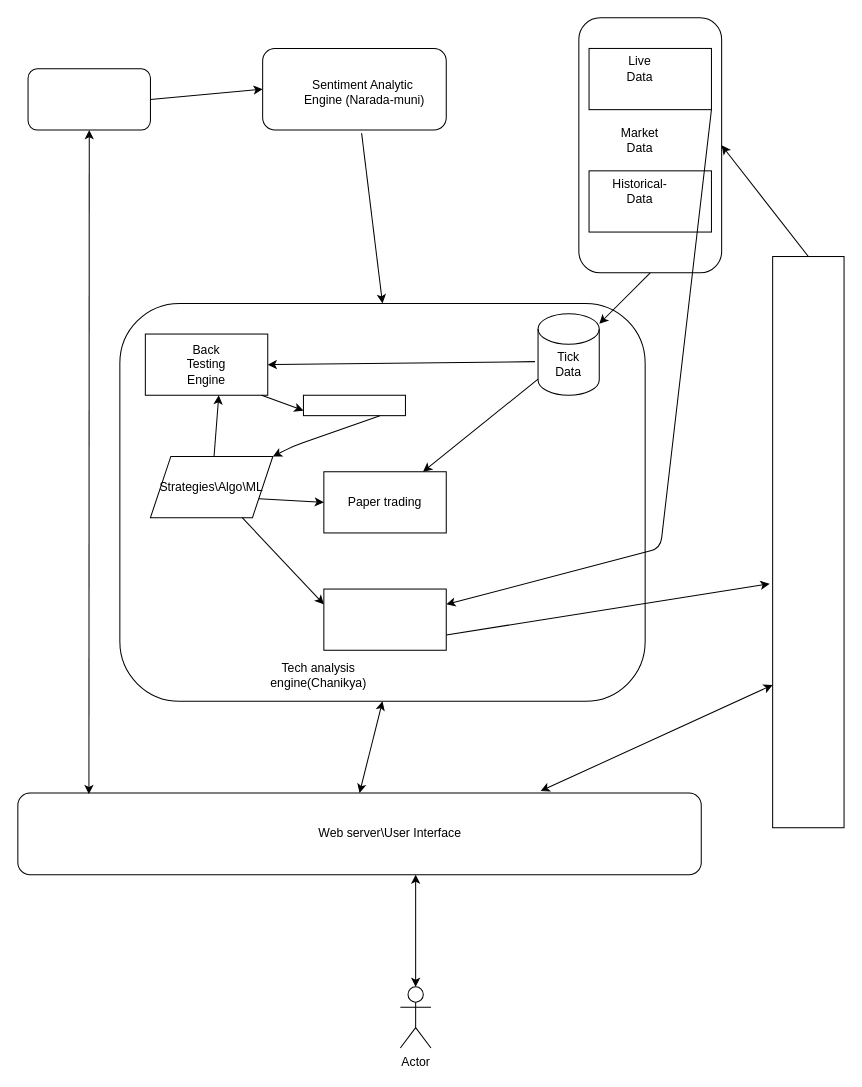
The diagram is 862 pixels wide and 1087 high, and some of its shapes have lost their labels. Here are the shapes that lost their labels. From the top down, the centre of each, then its label:
At point 88,99: "Stock Screener".
At point 353,405: "Results".
At point 808,542: "Binanace".
At point 384,619: "Live Trading".
